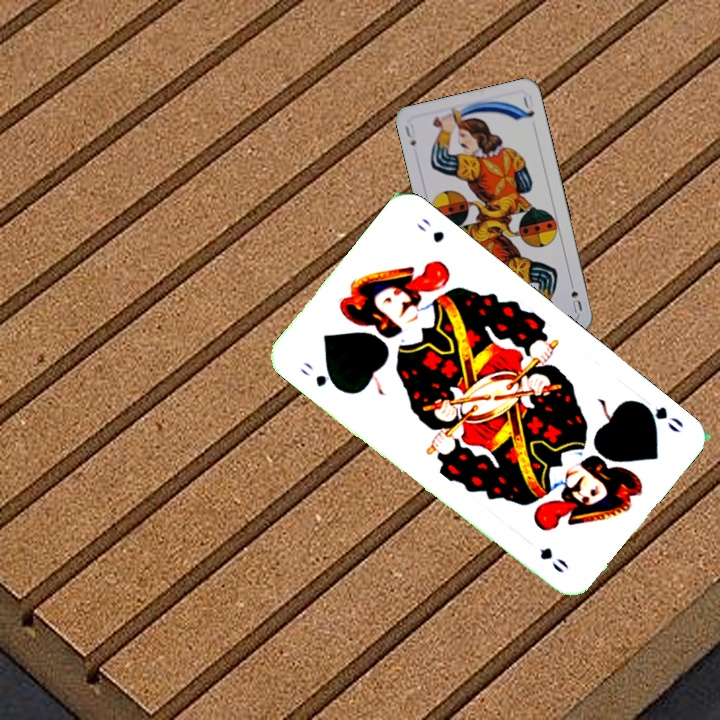GO: (632, 396, 686, 436), (296, 357, 343, 393)
SU: (566, 276, 585, 315), (401, 120, 419, 149)
